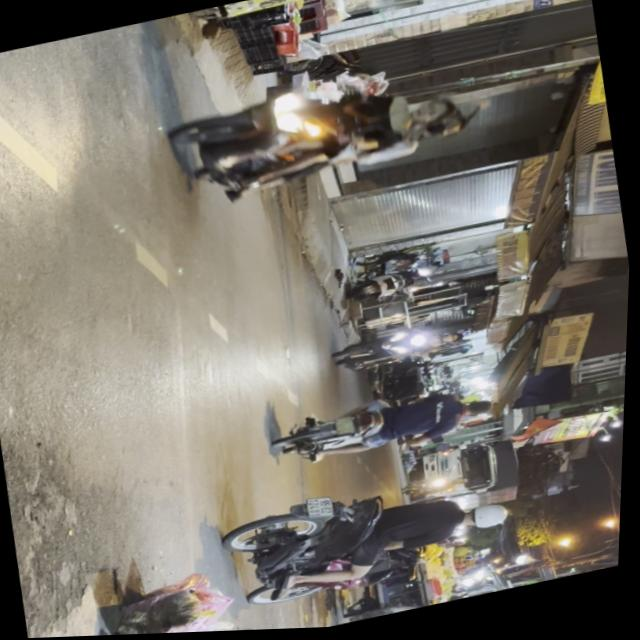helmet: (468, 501, 515, 533)
licenseplate: (161, 46, 492, 213), (220, 458, 526, 615), (273, 375, 504, 473)
motorcyclist: (408, 94, 461, 129), (421, 110, 476, 143), (466, 397, 499, 420)
nohelmet: (311, 496, 339, 523), (339, 416, 360, 436)
